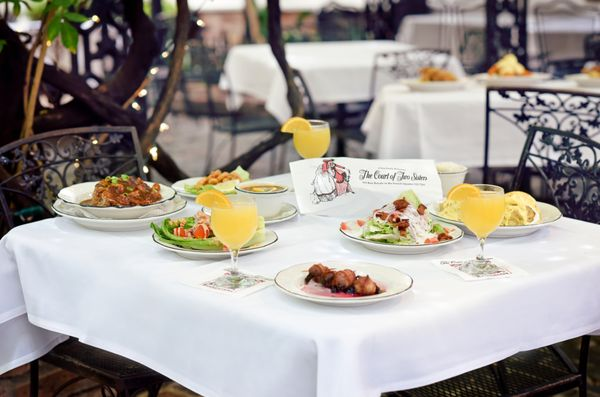pizza: (435, 161, 468, 199)
sushi: (234, 180, 291, 217)
